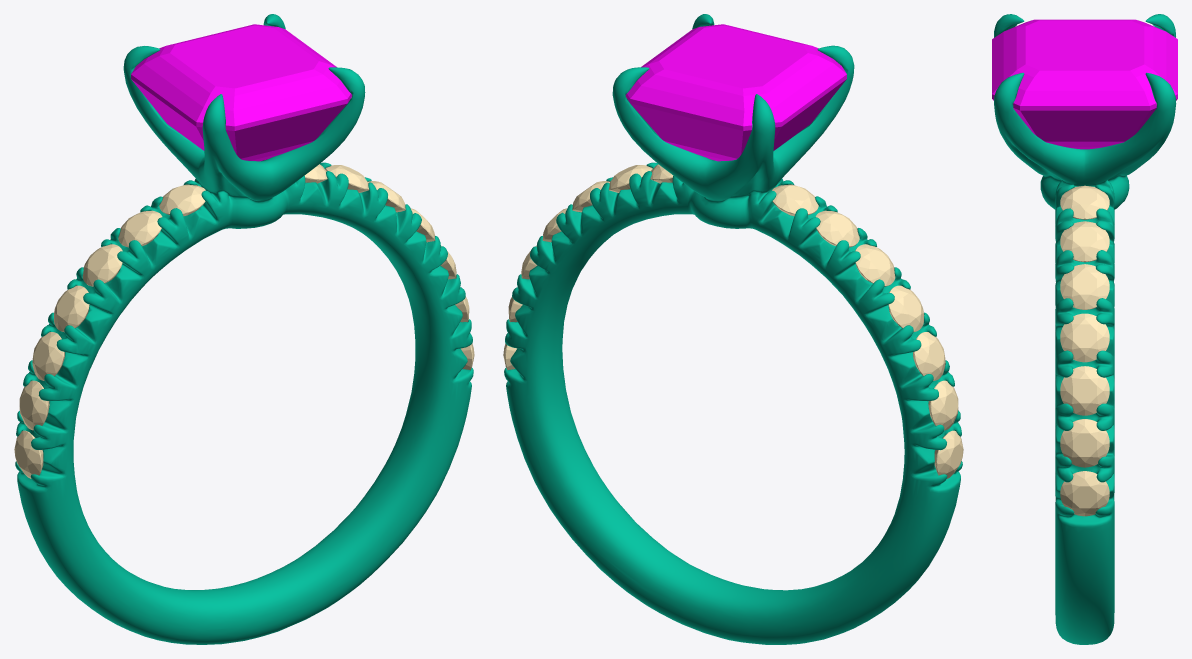
The model's file is BE1D4259_AS_200ct_RENDER.glb.
3 views of the same model, side by side, from view 1: azimuth 30°, elevation 25°; view 2: azimuth 150°, elevation 25°; view 3: azimuth 270°, elevation 25° (orthographic).
Visible parts, largest first — view 1: Metal 01, CS_Diamond_Asscher, Diamond_Round_Gem_SH.001, Diamond_Round_Gem_SH.006, Diamond_Round_Gem_SH.002, Diamond_Round_Gem_SH.005, Diamond_Round_Gem_SH.003, Diamond_Round_Gem_SH, Diamond_Round_Gem_SH.004; view 2: Metal 01, CS_Diamond_Asscher, Diamond_Round_Gem_SH.001, Diamond_Round_Gem_SH.006, Diamond_Round_Gem_SH.002, Diamond_Round_Gem_SH.005, Diamond_Round_Gem_SH.003, Diamond_Round_Gem_SH, Diamond_Round_Gem_SH.004; view 3: Metal 01, CS_Diamond_Asscher, Diamond_Round_Gem_SH.011, Diamond_Round_Gem_SH.010, Diamond_Round_Gem_SH.007, Diamond_Round_Gem_SH.012, Diamond_Round_Gem_SH.009, Diamond_Round_Gem_SH.008, Diamond_Round_Gem_SH.013.
Part boxes in pixels (x1,y1,x2,y2): Metal 01: (15,14,473,644); CS_Diamond_Asscher: (131,24,352,161); Diamond_Round_Gem_SH.001: (82,244,122,286); Diamond_Round_Gem_SH.006: (53,285,89,332); Diamond_Round_Gem_SH.002: (32,332,64,380); Diamond_Round_Gem_SH.005: (118,210,162,247); Diamond_Round_Gem_SH.003: (19,380,49,430); Diamond_Round_Gem_SH: (159,184,205,216); Diamond_Round_Gem_SH.004: (14,430,43,478); Metal 01: (504,14,962,644); CS_Diamond_Asscher: (625,24,846,161); Diamond_Round_Gem_SH.001: (855,244,895,286); Diamond_Round_Gem_SH.006: (888,285,924,331); Diamond_Round_Gem_SH.002: (913,332,945,380); Diamond_Round_Gem_SH.005: (815,210,859,247); Diamond_Round_Gem_SH.003: (928,380,958,430); Diamond_Round_Gem_SH: (772,184,818,216); Diamond_Round_Gem_SH.004: (934,430,963,478); Metal 01: (994,14,1176,644); CS_Diamond_Asscher: (992,19,1177,149); Diamond_Round_Gem_SH.011: (1060,366,1109,415); Diamond_Round_Gem_SH.010: (1060,419,1109,467); Diamond_Round_Gem_SH.007: (1060,313,1109,362); Diamond_Round_Gem_SH.012: (1060,264,1109,309); Diamond_Round_Gem_SH.009: (1060,471,1109,516); Diamond_Round_Gem_SH.008: (1060,221,1109,262); Diamond_Round_Gem_SH.013: (1060,185,1109,219).
Size of the model in its own units: 20.69 by 25.62 by 7.5.
